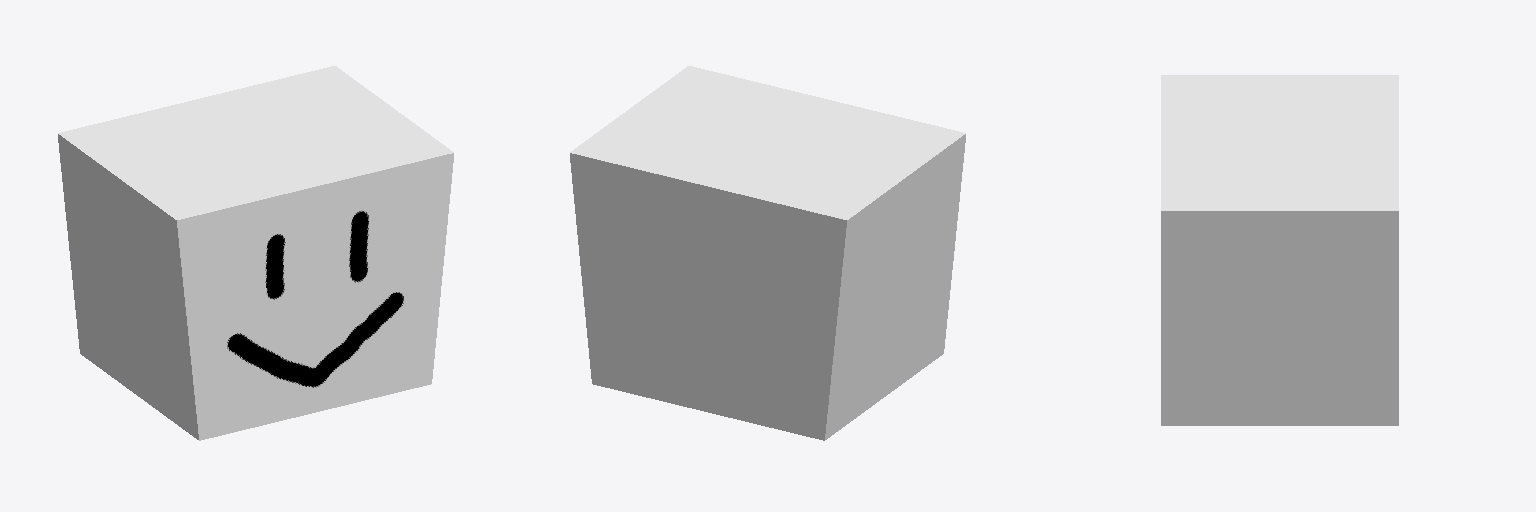
The picture shows the model from 3 angles: view 1: azimuth 30°, elevation 25°; view 2: azimuth 150°, elevation 25°; view 3: azimuth 270°, elevation 25°; orthographic projection.
Parts seen in each view (by area): view 1: player.001; view 2: player.001; view 3: player.001.
Part boxes in pixels (x1,y1,x2,y2): player.001: (58, 66, 453, 440); player.001: (570, 66, 965, 440); player.001: (1161, 75, 1398, 425).
Size of the model in its own units: 1.85 by 1.44 by 1.37.
1 materials, 1 textured.